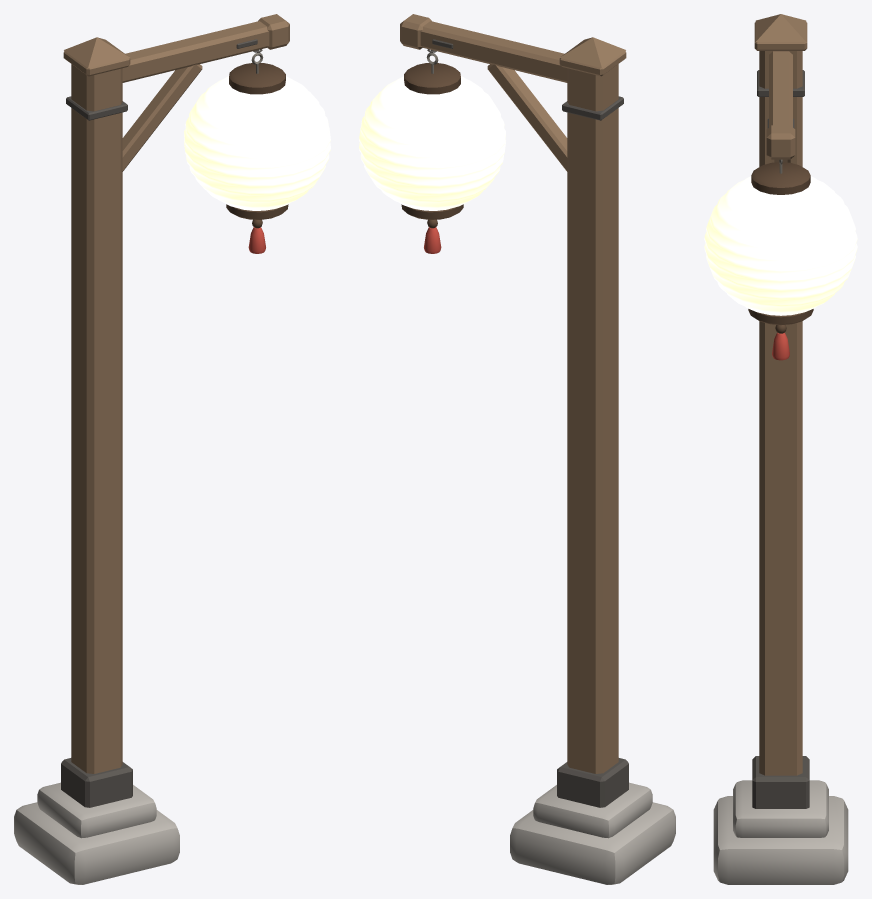
The model's file is lantern_post.glb.
3 views of the same model, side by side, from view 1: azimuth 30°, elevation 25°; view 2: azimuth 150°, elevation 25°; view 3: azimuth 270°, elevation 25° (orthographic). The views are drawn at different scales.
Parts seen in each view (by area): view 1: lantern_post, lantern; view 2: lantern_post, lantern; view 3: lantern_post, lantern.
Boxes of the visible parts, x1,y1,x2,y2 form: lantern_post: (14, 14, 289, 884); lantern: (184, 52, 330, 253); lantern_post: (400, 14, 675, 884); lantern: (359, 52, 505, 253); lantern_post: (713, 14, 848, 884); lantern: (704, 159, 857, 360).
Size of the model in its own units: 0.6998 by 1.95 by 0.3196.
